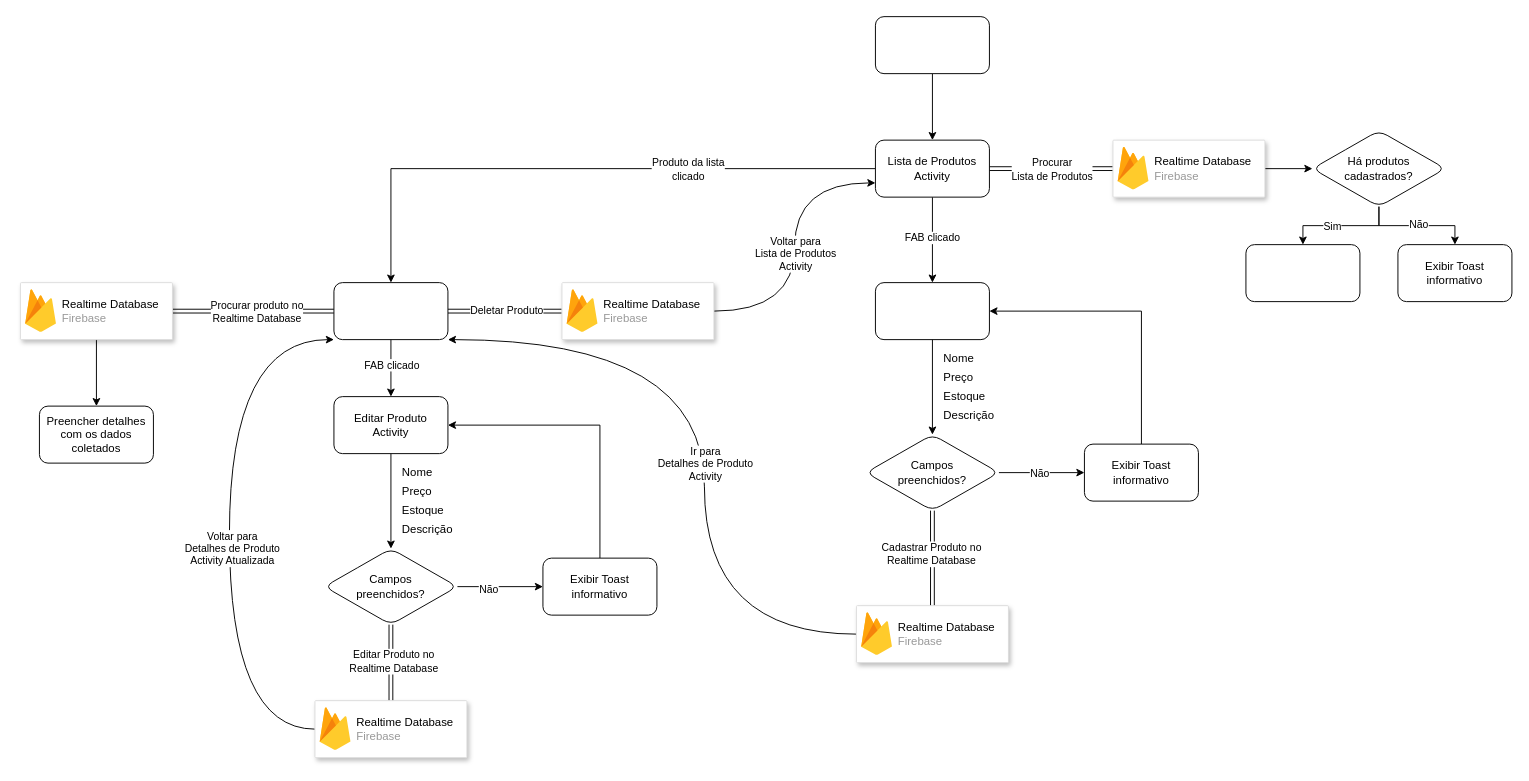
This 1529x781 diagram has some shape labels left out. The shapes that lost their labels are listed below. From the top down, each one's centre as x and y in pixels, then its label:
At pixel 931 45: "Home Activity".
At pixel 1302 273: "Carregar Lista de Produtos".
At pixel 390 311: "Detalhes de Produto Activity".
At pixel 931 311: "Cadastrar Produto Activity".
